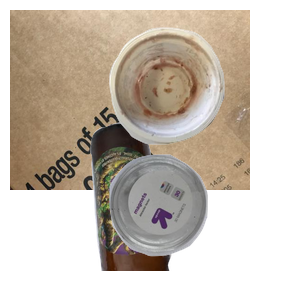cardboard: (10, 10, 250, 190)
glass: (88, 120, 252, 300)
plastic: (107, 152, 300, 300)
trash: (107, 25, 300, 162)
